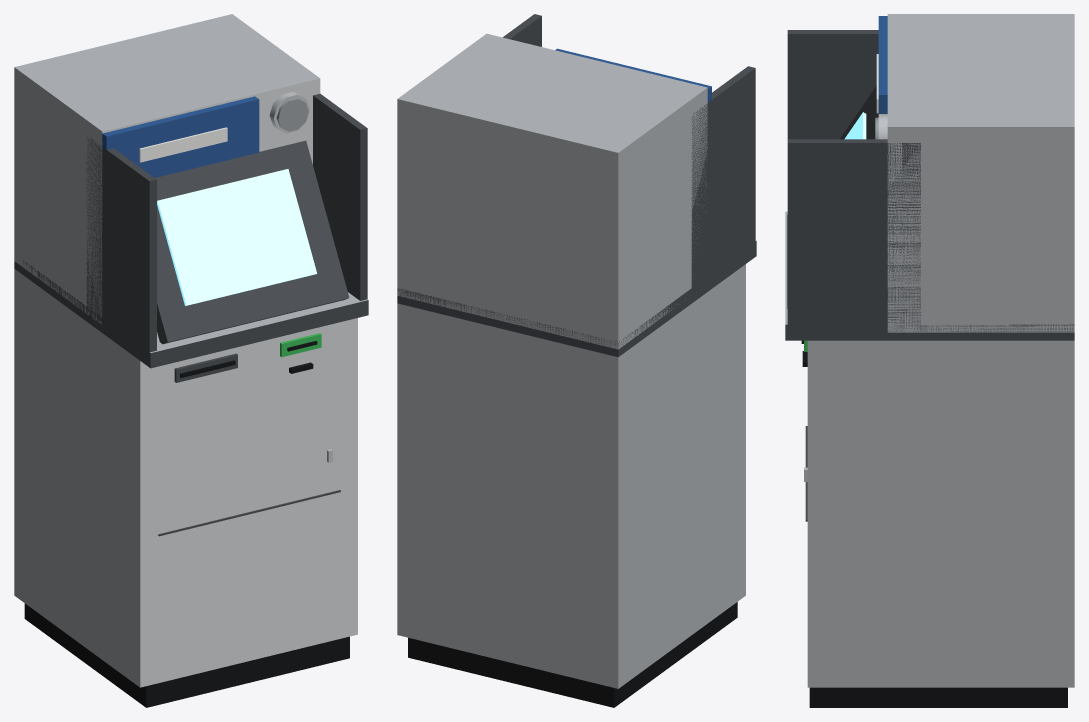
The model's file is atm.glb.
3 views of the same model, side by side, from view 1: azimuth 30°, elevation 25°; view 2: azimuth 150°, elevation 25°; view 3: azimuth 270°, elevation 25° (orthographic). The views are drawn at different scales.
Visible parts, largest first — view 1: atm; view 2: atm; view 3: atm.
Part boxes in pixels (x1=…): atm: x1=14, y1=14, x2=368, y2=707; atm: x1=397, y1=14, x2=756, y2=707; atm: x1=785, y1=14, x2=1074, y2=707.
Size of the model in its own units: 0.6 by 1.45 by 0.65.
